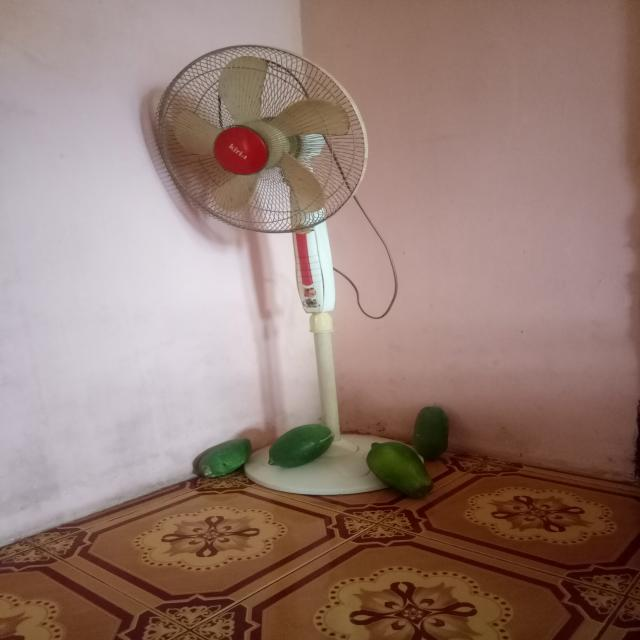Pepaya unrippen: (265, 426, 345, 468), (363, 447, 428, 495), (181, 440, 259, 479), (411, 407, 456, 445)
